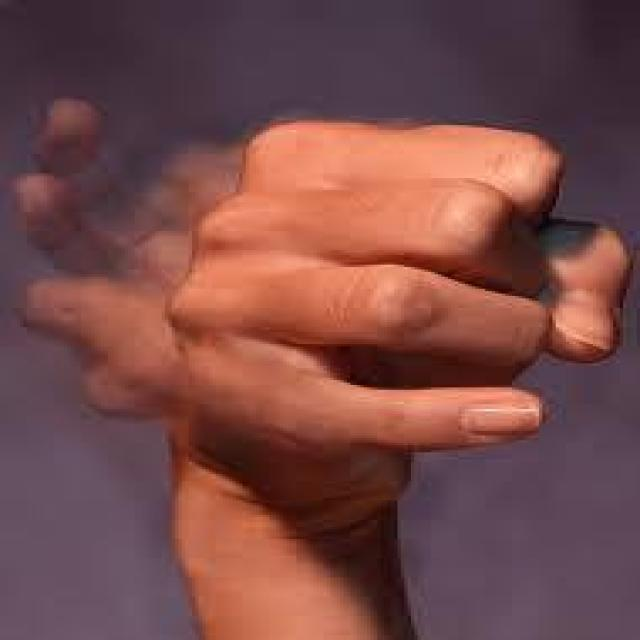J: (3, 86, 640, 530)
